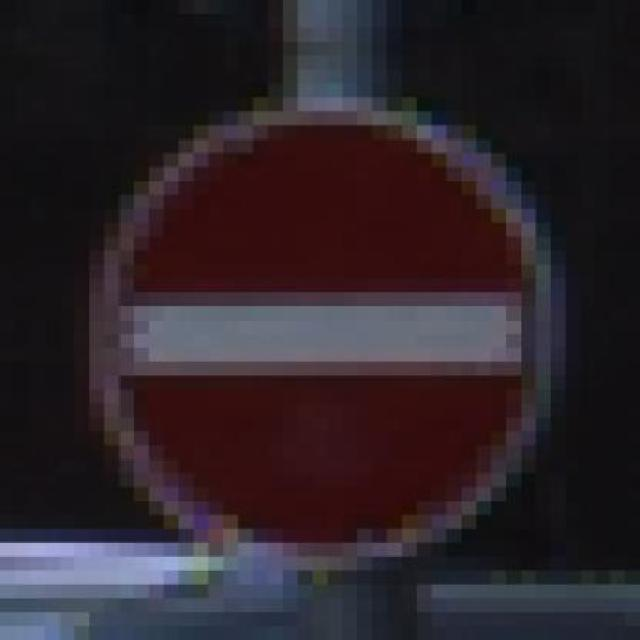No Entry: (54, 77, 592, 592)
